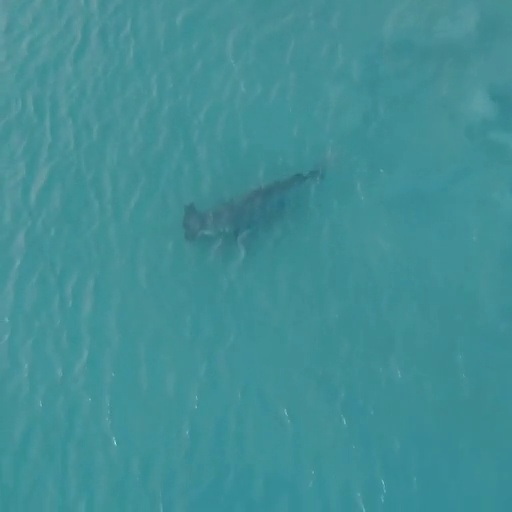shark: (182, 165, 329, 245)
